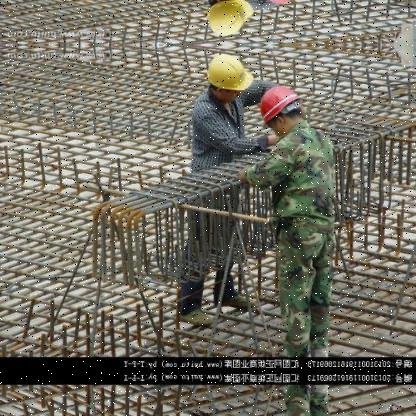helmet: (255, 80, 310, 139), (202, 50, 258, 103), (201, 0, 258, 37)
